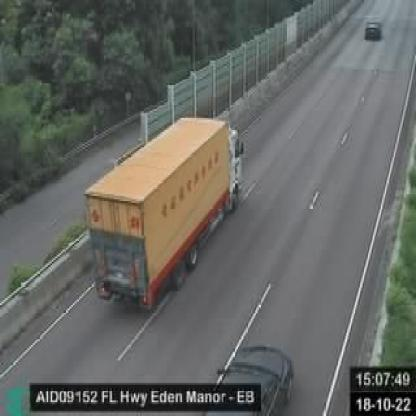Car: (200, 343, 294, 413), (366, 18, 382, 40)
Truck: (84, 114, 244, 316)
